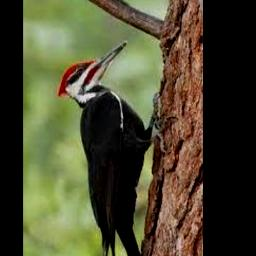Woodpecker: (58, 41, 173, 256)
